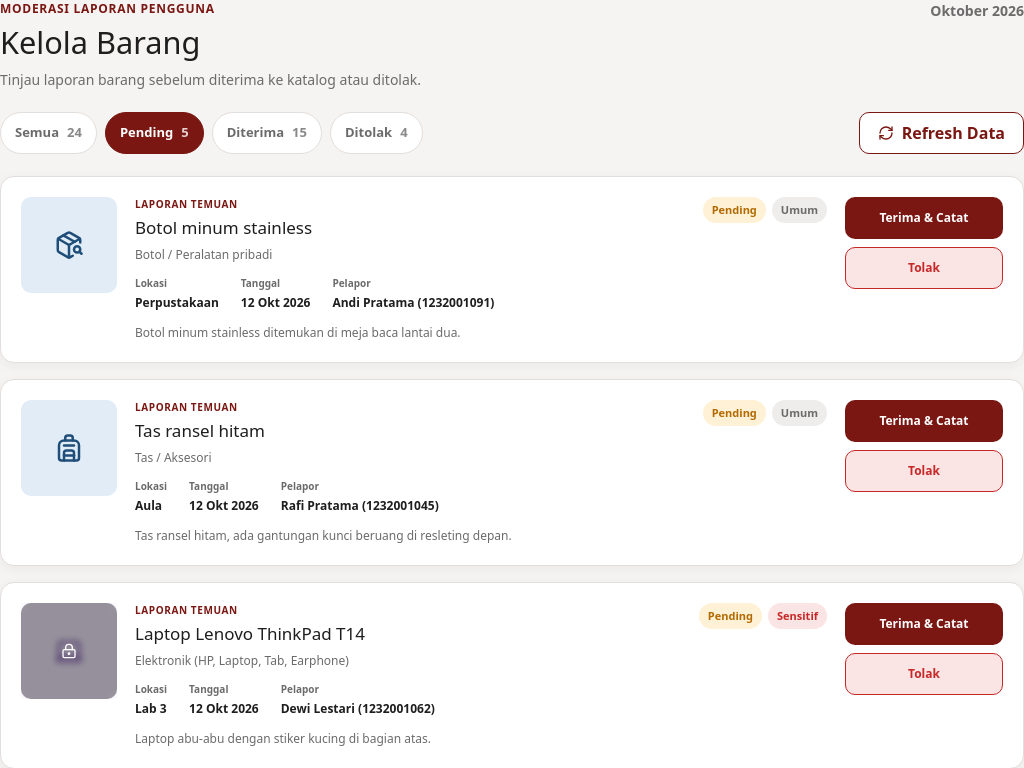
Test: ManageItemsPage › shows pending reports by default and filters to rejected reports
expect the heading "Tas ransel hitam" is shown: met, box [135,420,265,443]
expect the heading "Laptop Lenovo ThinkPad T14" is shown: met, box [135,623,365,646]
Click the tab "Ditolak 4": (376, 133) [330,112,423,154]
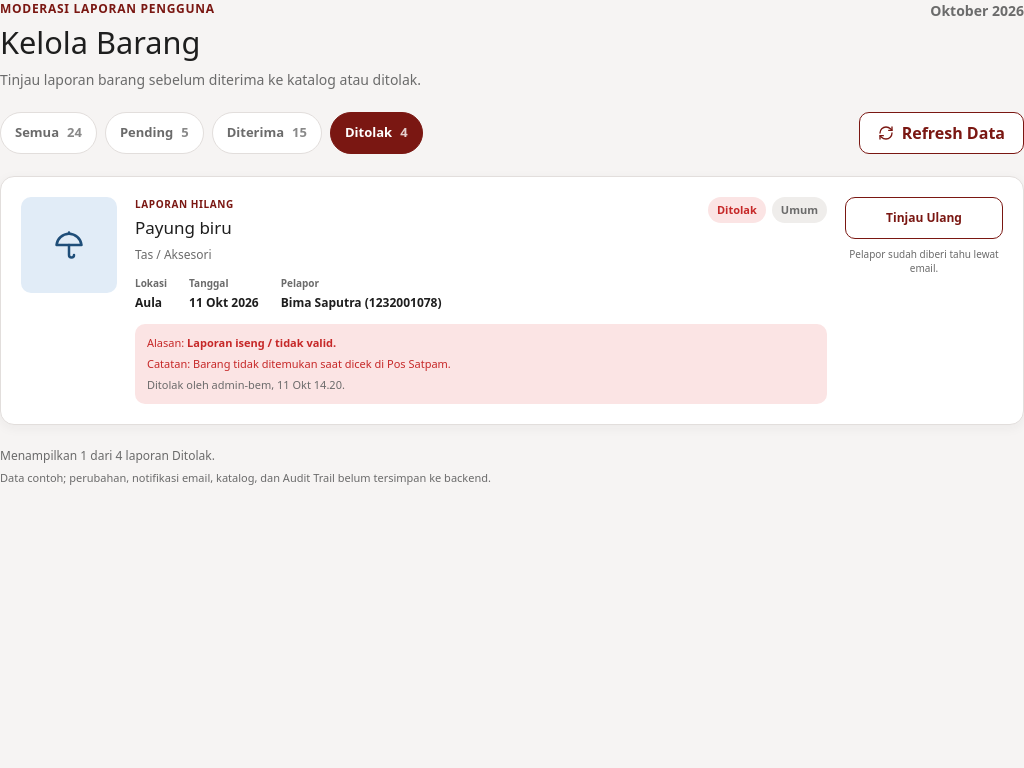
expect the heading "Payung biru" is shown: met, box [135,217,234,240]
expect the heading "Tas ransel hitam" is gone: met
expect the text "Laporan iseng / tidak valid." is shown: met, box [187,335,336,350]
